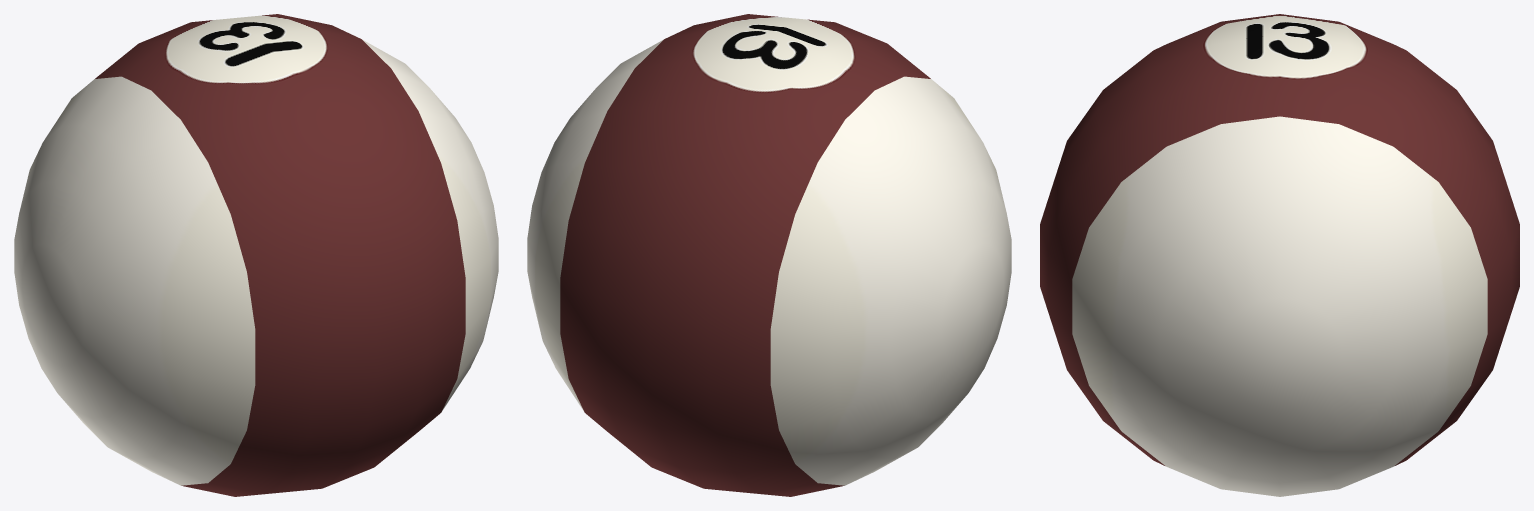
Rendered from Pool_Ball_13.fbx.
3 views of the same model, side by side, from view 1: azimuth 30°, elevation 25°; view 2: azimuth 150°, elevation 25°; view 3: azimuth 270°, elevation 25° (orthographic).
Parts seen in each view (by area): view 1: Pool_Ball_13; view 2: Pool_Ball_13; view 3: Pool_Ball_13.
Boxes of the visible parts, x1=… form: Pool_Ball_13: x1=14, y1=14, x2=498, y2=496; Pool_Ball_13: x1=527, y1=14, x2=1011, y2=496; Pool_Ball_13: x1=1040, y1=14, x2=1519, y2=496.
Bounding box in the file's own units: 0.051 × 0.051 × 0.0505.
